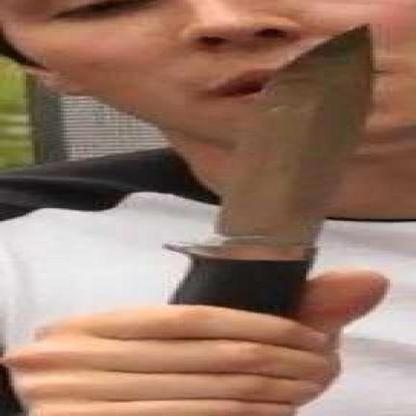Knife: (152, 20, 384, 416)
